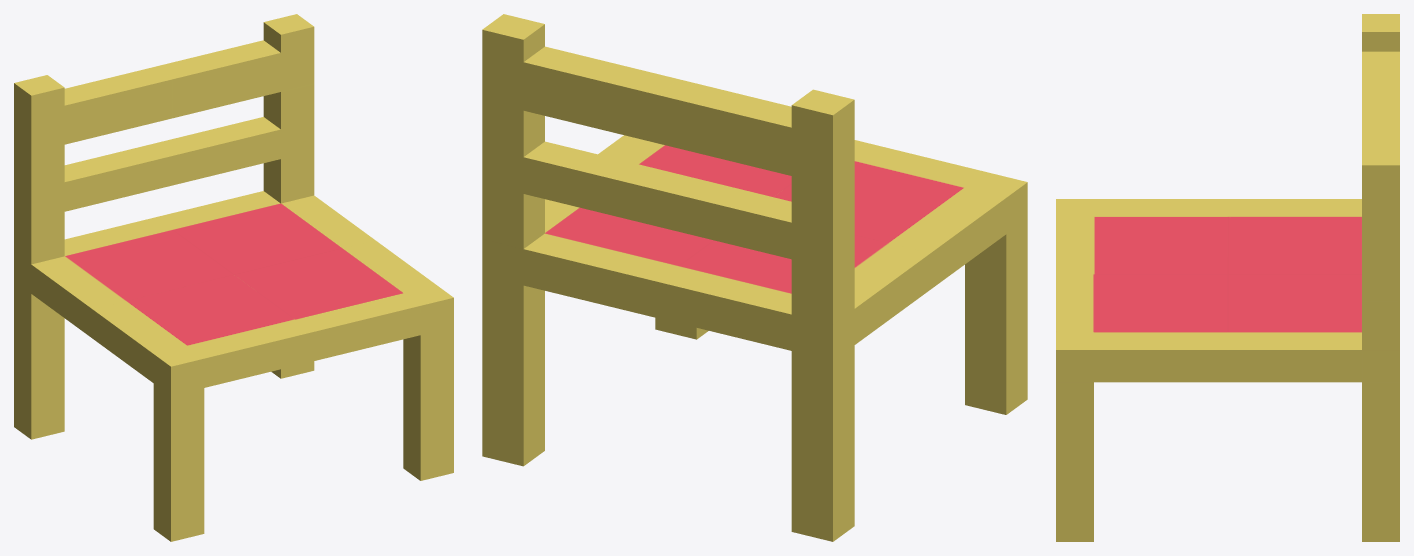
Rendered from chair.glb.
3 views of the same model, side by side, from view 1: azimuth 30°, elevation 25°; view 2: azimuth 150°, elevation 25°; view 3: azimuth 270°, elevation 25° (orthographic). The views are drawn at different scales.
Visible parts, largest first — view 1: chair; view 2: chair; view 3: chair.
Boxes of the visible parts, box(x1,y1,x2,y2) form: chair: box(14, 14, 453, 541); chair: box(482, 14, 1027, 541); chair: box(1056, 14, 1399, 541).
Bounding box in the file's own units: 0.8339 × 0.9689 × 0.8015.
1 material, 1 textured.
